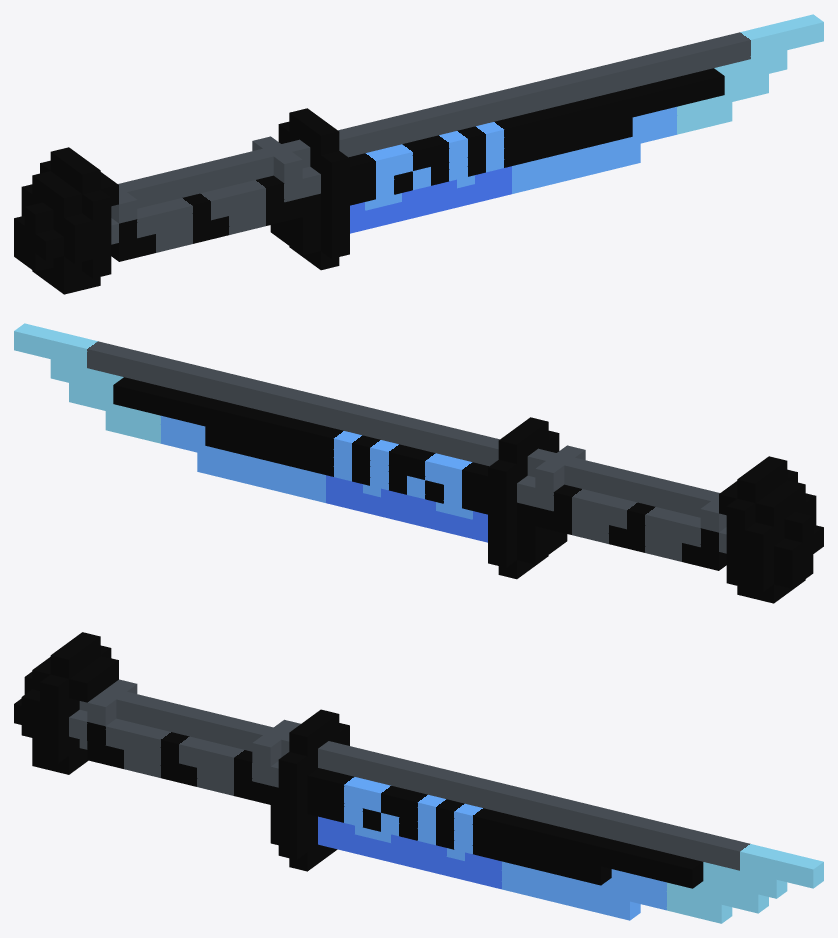
Rendered from 脉冲DS12B1型军刀.gltf.
The picture shows the model from 3 angles, top to bottom: view 1: azimuth 30°, elevation 25°; view 2: azimuth 150°, elevation 25°; view 3: azimuth 330°, elevation 25°; orthographic projection.
Visible parts, largest first — view 1: Object; view 2: Object; view 3: Object.
Boxes of the visible parts, box(x1,y1,x2,y2) form: Object: box(14, 14, 823, 294); Object: box(14, 323, 823, 603); Object: box(14, 632, 823, 923).
Size of the model in its own units: 43 by 8 by 5.
Materials: 1 (1 with a texture image).
